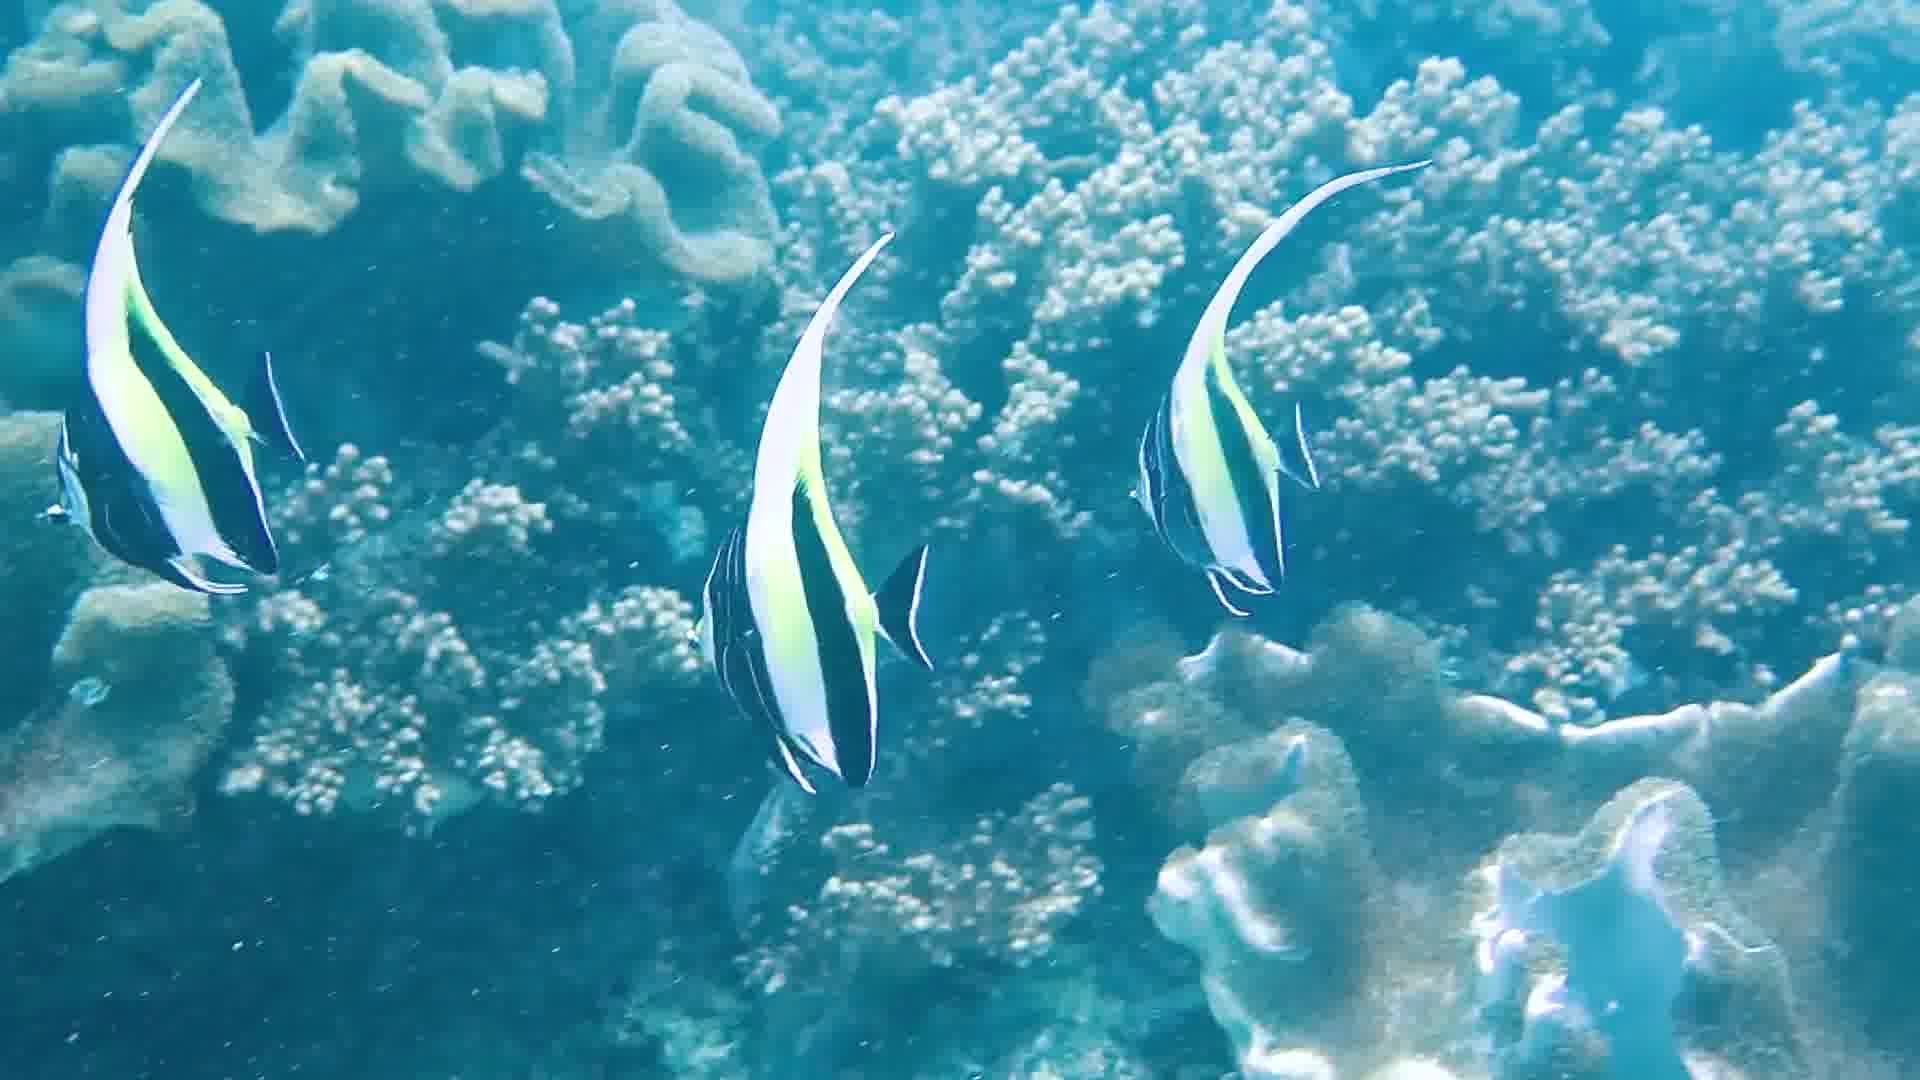Zanclus cornutus: (44, 274, 378, 603), (675, 378, 936, 791), (1112, 286, 1338, 618)
